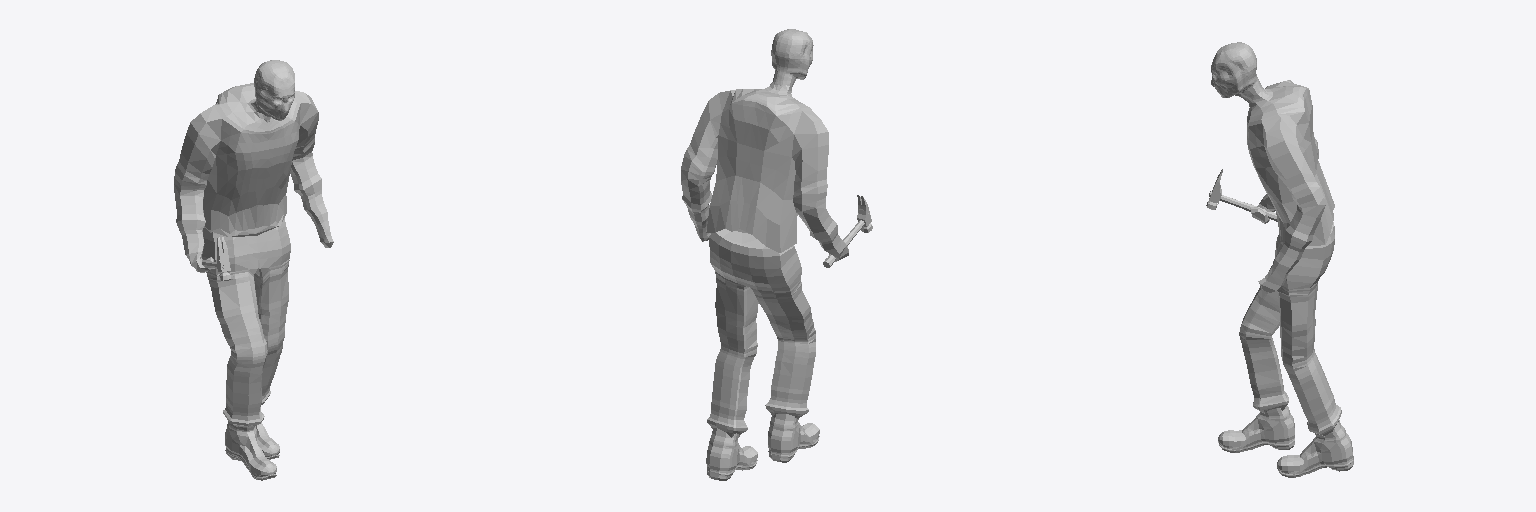
Rendered from Murderer_Step219.obj.
The picture shows the model from 3 angles: view 1: azimuth 30°, elevation 25°; view 2: azimuth 150°, elevation 25°; view 3: azimuth 270°, elevation 25°; orthographic projection.
Visible parts, largest first — view 1: Körper, Beine, Stiefel, Hammer; view 2: Körper, Beine, Stiefel, Hammer; view 3: Körper, Beine, Stiefel, Hammer.
Boxes of the visible parts, x1,y1,x2,y2 form: Körper: [174, 60, 333, 272]; Beine: [202, 218, 290, 426]; Stiefel: [225, 407, 279, 480]; Hammer: [190, 237, 230, 280]; Körper: [681, 29, 848, 261]; Beine: [707, 229, 815, 437]; Stiefel: [706, 414, 819, 480]; Hammer: [823, 195, 872, 267]; Körper: [1211, 42, 1334, 292]; Beine: [1239, 222, 1341, 436]; Stiefel: [1218, 406, 1353, 477]; Hammer: [1206, 169, 1277, 221].
Bounding box in the file's own units: 0.3503 × 0.961 × 0.3072.